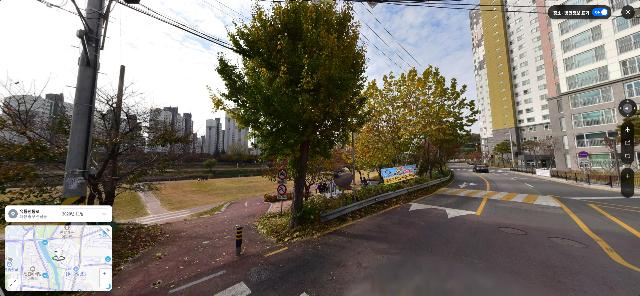ginkgo: (357, 65, 481, 183)
other: (207, 0, 370, 229), (1, 75, 198, 263)
